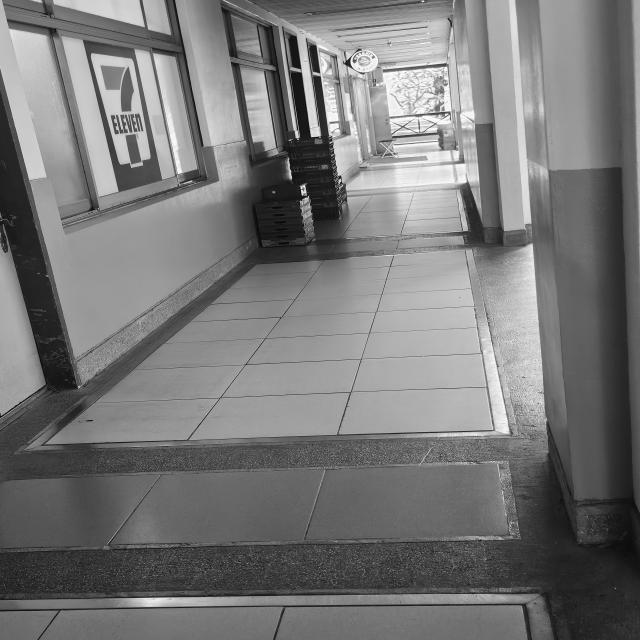Road-Object: (0, 142, 638, 640)
